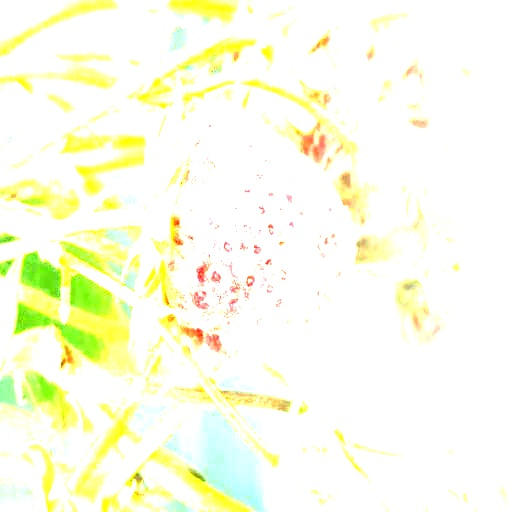Powdery Mildew Fruit: (142, 96, 357, 379)
